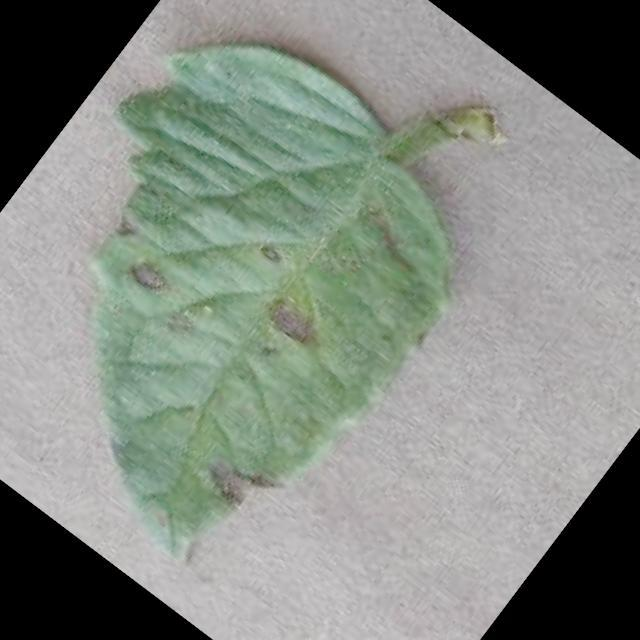Tomato Early blight leaf: (0, 0, 522, 603)
